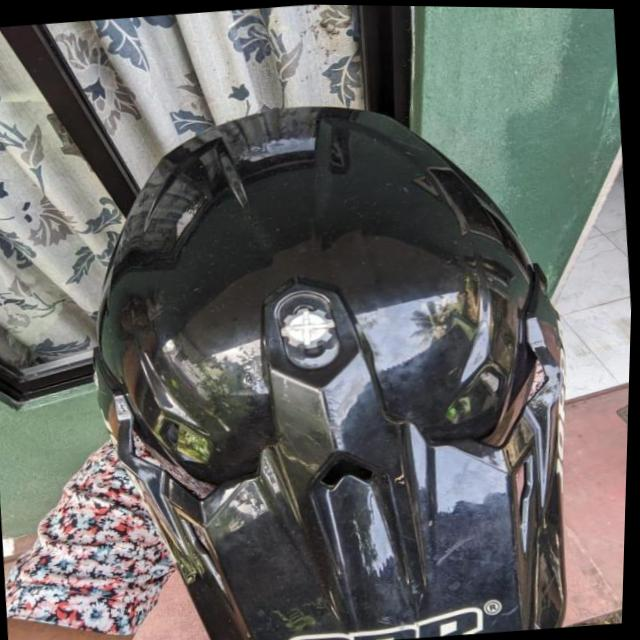helmet: (63, 80, 597, 640)
